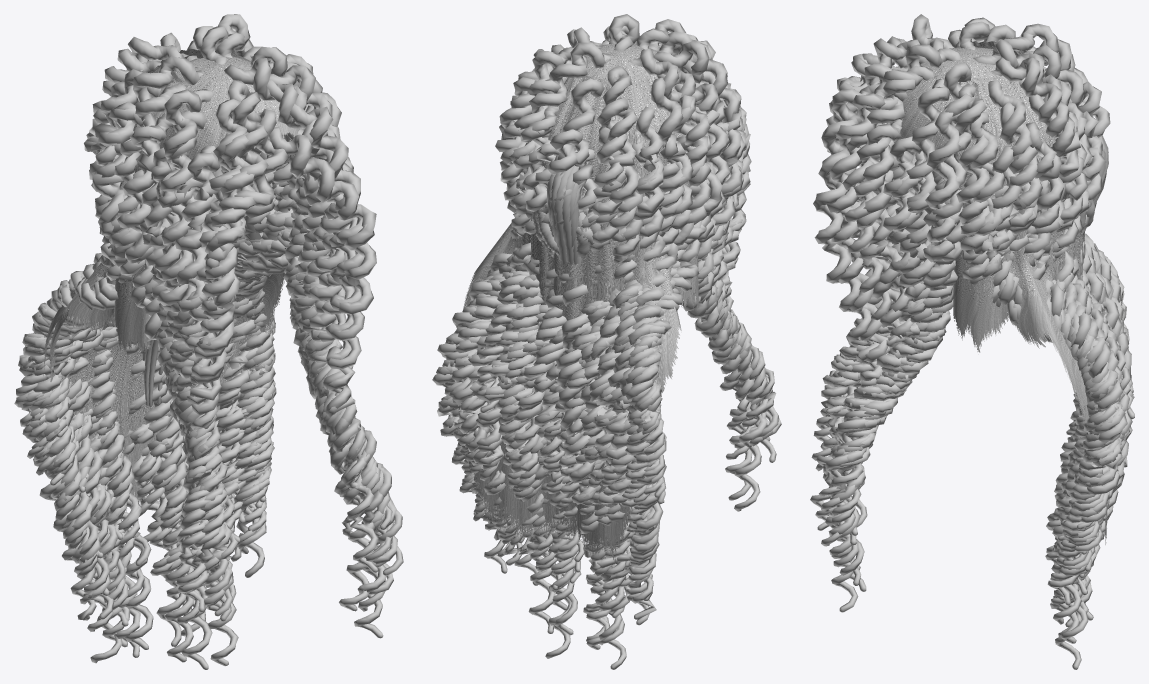
Rendered from NC_Head_Female_Hair1.fbx.
The picture shows the model from 3 angles, left to right: view 1: azimuth 30°, elevation 25°; view 2: azimuth 150°, elevation 25°; view 3: azimuth 270°, elevation 25°; orthographic projection. The views are drawn at different scales.
Visible parts, largest first — view 1: Hair_LongCurls_5, Hair_LongCurls_6, Hair_LongCurls_4, Hair_LongCurls_3, Hair_LongCurls_Cap_5, Hair_LongCurls_Cap_6, Hair_LongStraight_2, Hair_LongCurls_2, Hair_LongCurls_Cap_2, Hair_LongCurls_Cap_3, Hair_LongCurls_Cap_4, Hair_LongCurls_7 (+4 smaller); view 2: Hair_LongCurls_6, Hair_LongCurls_4, Hair_LongStraight_2, Hair_LongCurls_5, Hair_LongCurls_3, Hair_LongCurls_2, Hair_LongCurls_Cap_2, Hair_LongCurls_Cap_4, Hair_LongCurls_Cap_5, Hair_LongCurls_Cap_6, Hair_LongCurls_Cap, Hair_LongCurls_Cap_3 (+5 smaller); view 3: Hair_LongCurls_5, Hair_LongCurls_6, Hair_LongCurls_4, Hair_LongCurls_3, Hair_LongCurls_2, Hair_LongStraight_2, Hair_LongCurls_Cap_5, Hair_LongCurls_Cap_2, Hair_LongCurls_Cap_6, Hair_LongCurls_7, Hair_LongCurls_Cap, Hair_LongCurls_Cap_4 (+3 smaller).
Part boxes in pixels (bbox=[...]): Hair_LongCurls_5: bbox=[29, 14, 378, 611]; Hair_LongCurls_6: bbox=[27, 26, 357, 662]; Hair_LongCurls_4: bbox=[16, 32, 392, 669]; Hair_LongCurls_3: bbox=[30, 65, 363, 616]; Hair_LongCurls_Cap_5: bbox=[30, 151, 397, 638]; Hair_LongCurls_Cap_6: bbox=[17, 134, 403, 657]; Hair_LongStraight_2: bbox=[43, 48, 287, 511]; Hair_LongCurls_2: bbox=[26, 54, 394, 611]; Hair_LongCurls_Cap_2: bbox=[32, 147, 365, 663]; Hair_LongCurls_Cap_3: bbox=[14, 152, 361, 575]; Hair_LongCurls_Cap_4: bbox=[21, 158, 295, 623]; Hair_LongCurls_7: bbox=[48, 46, 270, 666]; Hair_LongCurls_6: bbox=[442, 14, 758, 658]; Hair_LongCurls_4: bbox=[444, 39, 769, 583]; Hair_LongStraight_2: bbox=[462, 69, 698, 559]; Hair_LongCurls_5: bbox=[446, 26, 772, 563]; Hair_LongCurls_3: bbox=[436, 19, 774, 589]; Hair_LongCurls_2: bbox=[445, 47, 711, 618]; Hair_LongCurls_Cap_2: bbox=[438, 181, 758, 669]; Hair_LongCurls_Cap_4: bbox=[448, 169, 750, 610]; Hair_LongCurls_Cap_5: bbox=[441, 161, 781, 625]; Hair_LongCurls_Cap_6: bbox=[432, 167, 755, 649]; Hair_LongCurls_Cap: bbox=[476, 288, 635, 645]; Hair_LongCurls_Cap_3: bbox=[447, 185, 710, 572]; Hair_LongCurls_5: bbox=[810, 36, 1134, 605]; Hair_LongCurls_6: bbox=[824, 14, 1119, 669]; Hair_LongCurls_4: bbox=[826, 17, 1125, 578]; Hair_LongCurls_3: bbox=[811, 38, 1125, 586]; Hair_LongCurls_2: bbox=[819, 29, 1134, 574]; Hair_LongStraight_2: bbox=[953, 41, 1107, 544]; Hair_LongCurls_Cap_5: bbox=[825, 171, 1129, 612]; Hair_LongCurls_Cap_2: bbox=[813, 140, 1132, 643]; Hair_LongCurls_Cap_6: bbox=[820, 151, 1129, 626]; Hair_LongCurls_7: bbox=[822, 80, 1132, 627]; Hair_LongCurls_Cap: bbox=[815, 157, 1133, 636]; Hair_LongCurls_Cap_4: bbox=[845, 122, 1133, 618].
Size of the model in its own units: 1 by 2.45 by 1.15.
Materials: 1 (1 with a texture image).
